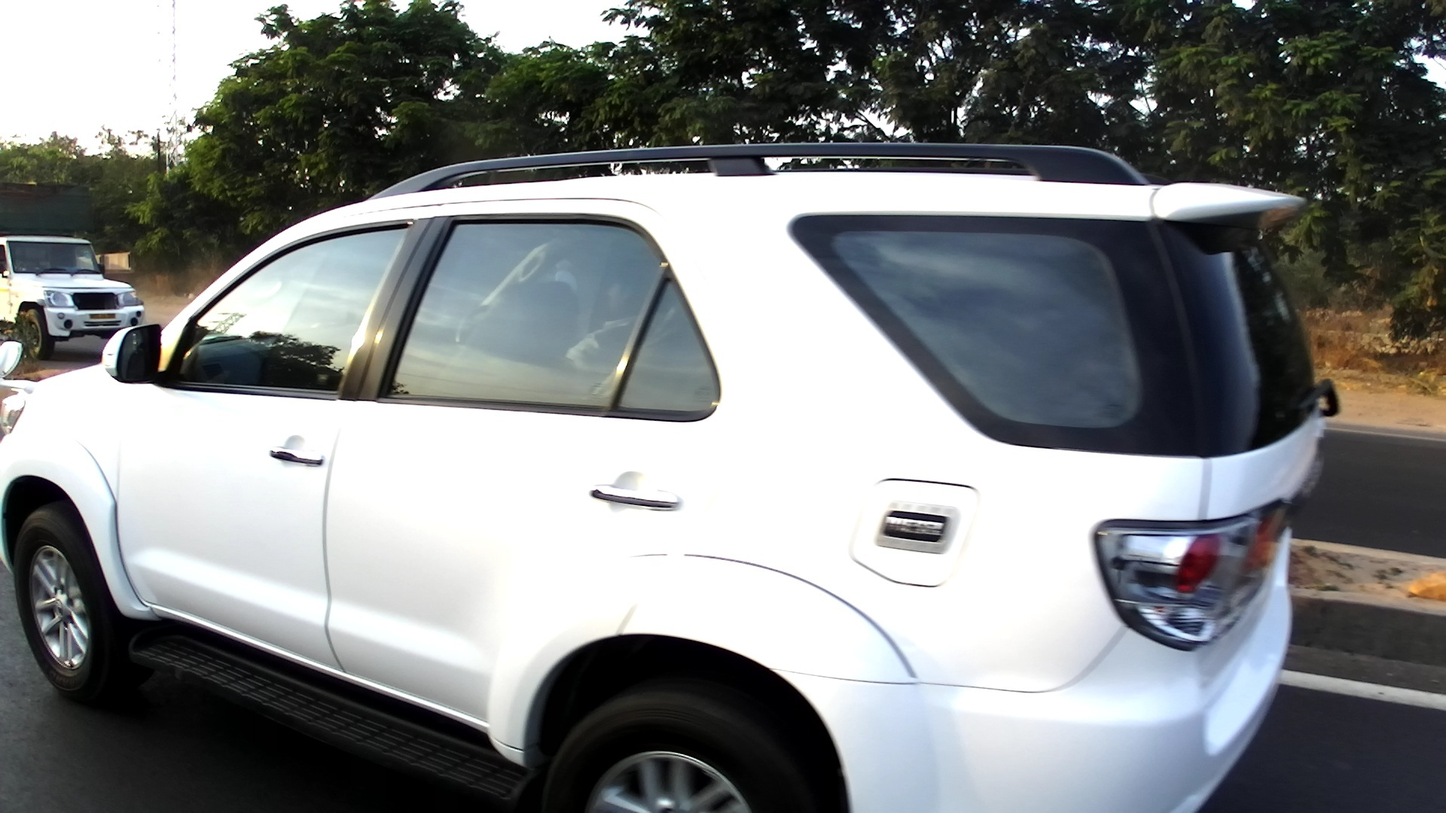car: (1, 143, 1341, 813)
truck: (1, 182, 145, 360)
